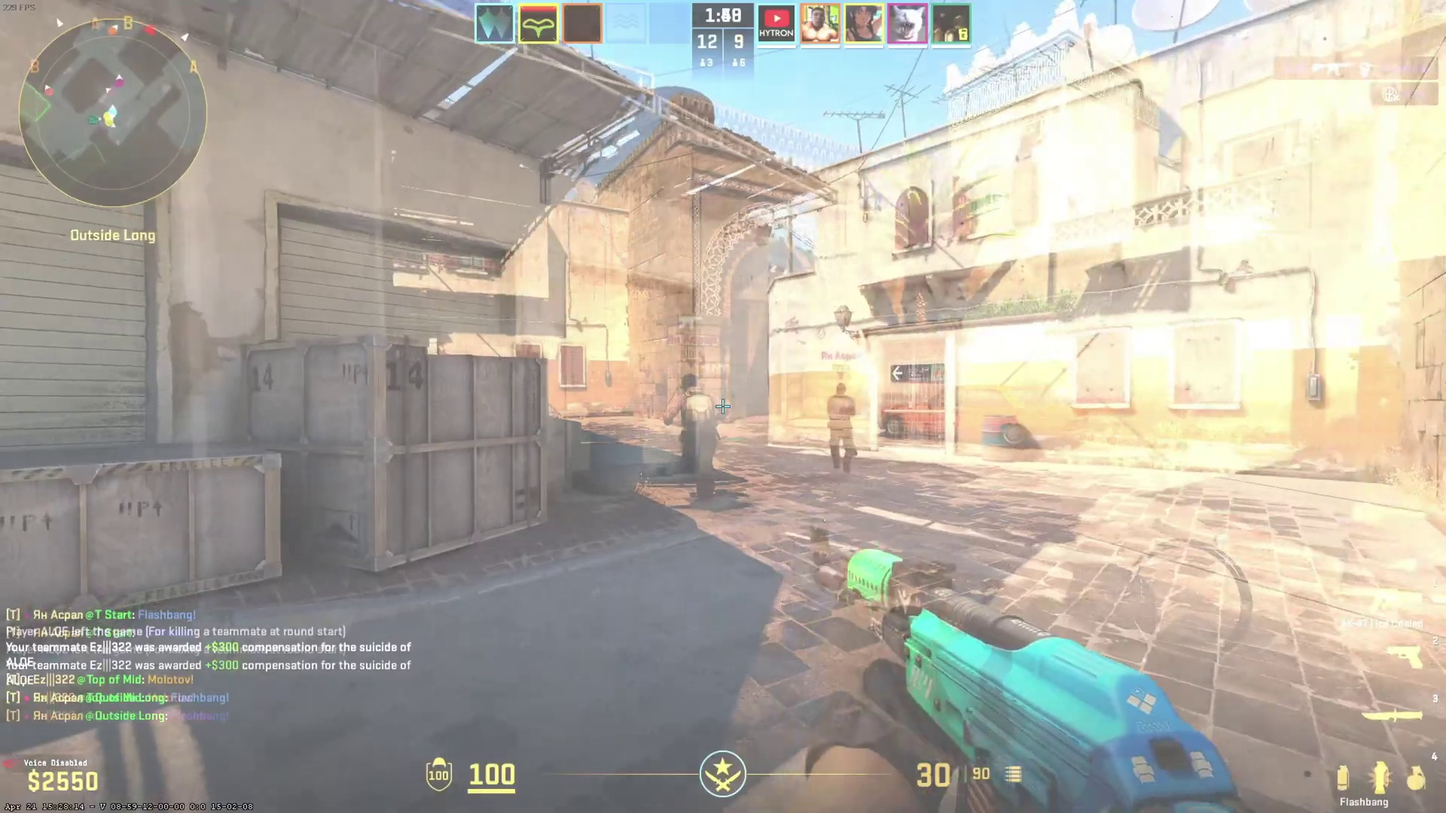Terrorist: (668, 366, 721, 483), (825, 376, 855, 476)
